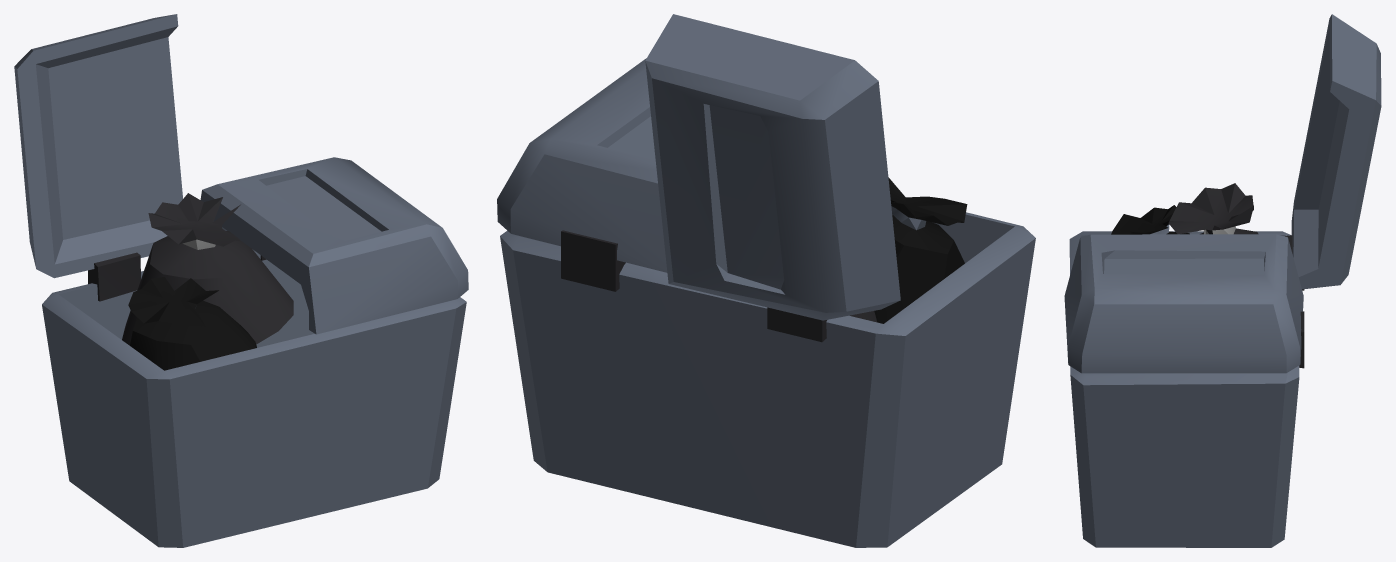
Rendered from Trash Box 1 Fractured.fbx.
3 views of the same model, side by side, from view 1: azimuth 30°, elevation 25°; view 2: azimuth 150°, elevation 25°; view 3: azimuth 270°, elevation 25° (orthographic). The views are drawn at different scales.
Parts seen in each view (by area): view 1: Trash_Box_01_Breaking, Trash_Box_01_Breaking.003, Trash_Box_01_Breaking.002, Trash_Box_01_Breaking.001; view 2: Trash_Box_01_Breaking, Trash_Box_01_Breaking.003, Trash_Box_01_Breaking.002, Trash_Box_01_Breaking.001; view 3: Trash_Box_01_Breaking.002, Trash_Box_01_Breaking.001, Trash_Box_01_Breaking.003, Trash_Box_01_Breaking.
Part boxes in pixels (x1,y1,x2,y2): Trash_Box_01_Breaking: (42,193,345,547); Trash_Box_01_Breaking.003: (14,14,182,301); Trash_Box_01_Breaking.002: (252,249,466,531); Trash_Box_01_Breaking.001: (200,157,468,334); Trash_Box_01_Breaking: (652,177,1035,547); Trash_Box_01_Breaking.003: (645,14,900,342); Trash_Box_01_Breaking.002: (500,230,770,526); Trash_Box_01_Breaking.001: (497,58,667,291); Trash_Box_01_Breaking.002: (1070,366,1299,547); Trash_Box_01_Breaking.001: (1064,234,1304,373); Trash_Box_01_Breaking.003: (1285,14,1381,290); Trash_Box_01_Breaking: (1069,183,1290,274).
Bounding box in the file's own units: 99.17 × 120 × 86.33.
